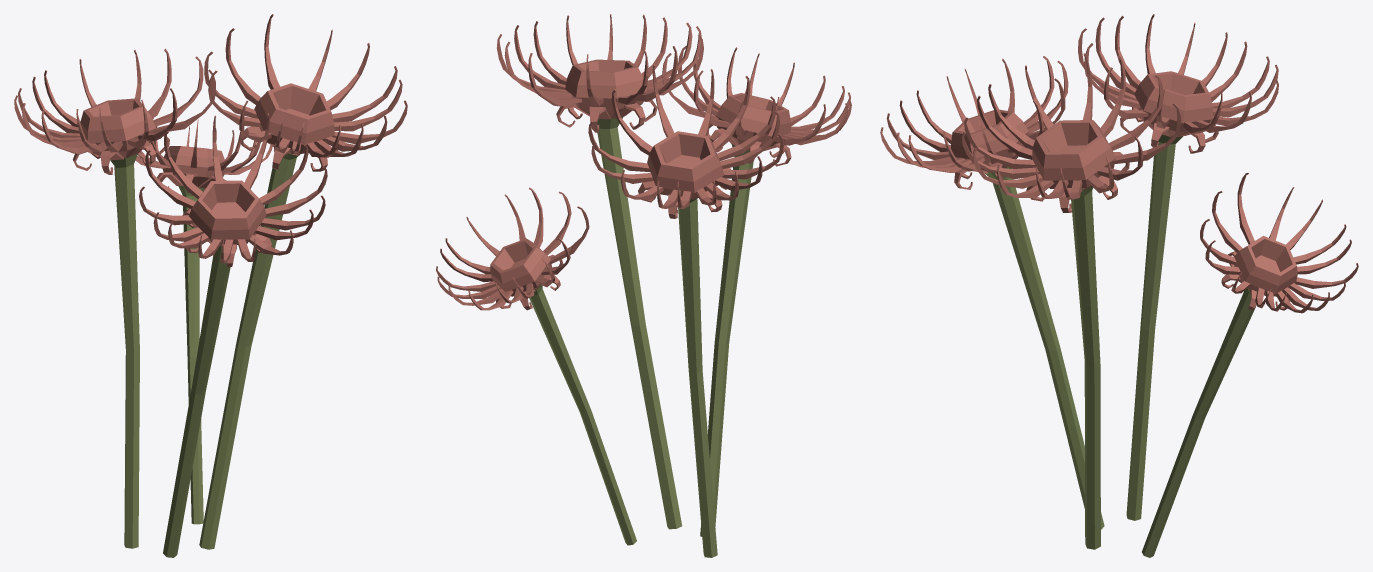
The model's file is Flower of Death Unharvested.fbx.
3 views of the same model, side by side, from view 1: azimuth 30°, elevation 25°; view 2: azimuth 150°, elevation 25°; view 3: azimuth 270°, elevation 25° (orthographic). The views are drawn at different scales.
Parts seen in each view (by area): view 1: red_lily4; view 2: red_lily4; view 3: red_lily4.
Part boxes in pixels (x1,y1,x2,y2): red_lily4: (14,14,407,557); red_lily4: (436,14,851,557); red_lily4: (880,14,1358,557).
Bounding box in the file's own units: 0.532 × 0.7883 × 0.6824.
